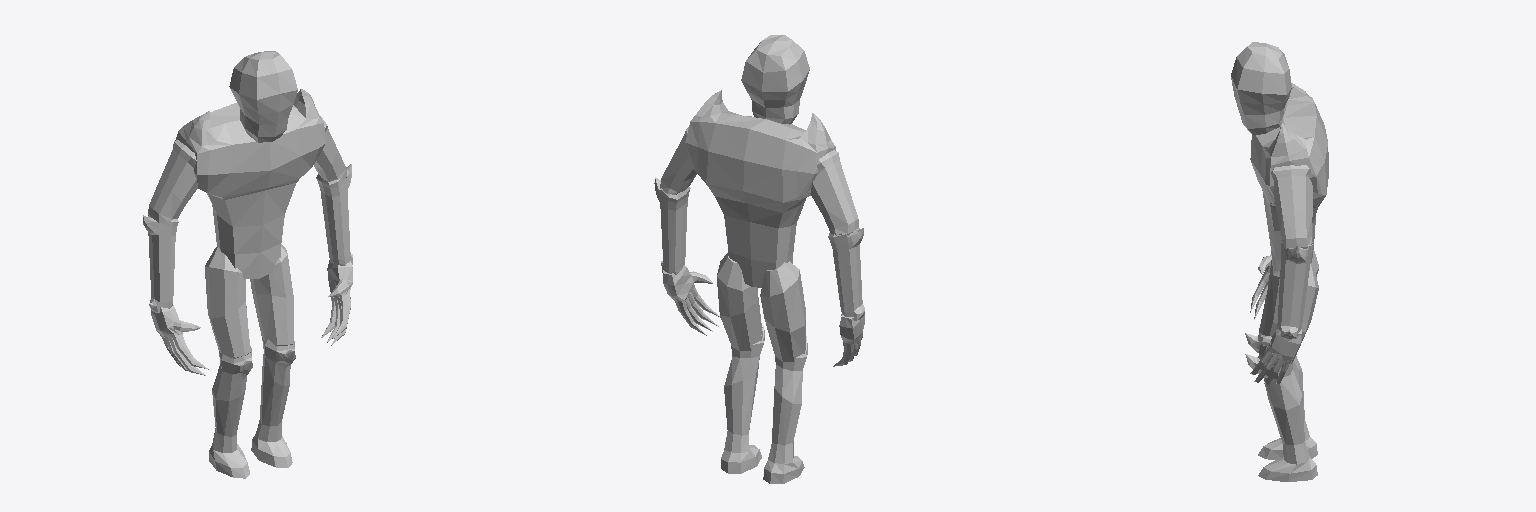
Rendered from archvile.obj.
3 renders of one model, left to right at view 1: azimuth 30°, elevation 25°; view 2: azimuth 150°, elevation 25°; view 3: azimuth 270°, elevation 25°, orthographic.
Parts seen in each view (by area): view 1: Body, Head, LegRightLower, LegRightUpper, LegLeftLower, LegLeftUpper, ArmRightUpper, ArmRightLower, ArmLeftLower, HandRight, HandLeft, ArmLeftUpper; view 2: Body, Head, LegLeftLower, LegRightUpper, LegRightLower, LegLeftUpper, ArmRightUpper, ArmRightLower, ArmLeftLower, HandLeft, ArmLeftUpper, HandRight; view 3: Body, Head, LegLeftLower, ArmLeftUpper, ArmLeftLower, HandLeft, LegLeftUpper, LegRightLower, HandRight.
Part boxes in pixels (x1,y1,x2,y2): Body: (175, 89, 325, 279); Head: (229, 51, 297, 142); LegRightLower: (209, 346, 252, 478); LegRightUpper: (205, 247, 250, 358); LegLeftLower: (251, 338, 295, 467); LegLeftUpper: (250, 244, 293, 345); ArmRightUpper: (148, 140, 197, 222); ArmRightLower: (143, 215, 178, 312); ArmLeftLower: (316, 164, 352, 265); HandRight: (151, 305, 208, 375); HandLeft: (321, 260, 352, 345); ArmLeftUpper: (314, 117, 346, 181); Body: (685, 90, 835, 287); Head: (741, 35, 809, 124); LegLeftLower: (721, 326, 764, 473); LegRightUpper: (760, 261, 805, 361); LegRightLower: (763, 336, 807, 483); LegLeftUpper: (717, 253, 762, 351); ArmRightUpper: (810, 150, 858, 235); ArmRightLower: (828, 228, 864, 320); ArmLeftLower: (654, 177, 690, 274); HandLeft: (663, 265, 720, 335); ArmLeftUpper: (660, 127, 696, 194); HandRight: (833, 314, 864, 366); Body: (1250, 83, 1328, 273); Head: (1231, 42, 1291, 135); LegLeftLower: (1245, 354, 1317, 481); ArmLeftUpper: (1271, 165, 1312, 248); ArmLeftLower: (1277, 242, 1313, 338); HandLeft: (1250, 329, 1301, 384); LegLeftUpper: (1259, 263, 1318, 364); LegRightLower: (1245, 333, 1317, 459); HandRight: (1250, 255, 1271, 319).
Bounding box in the file's own units: 1.97 × 3.78 × 0.8046.